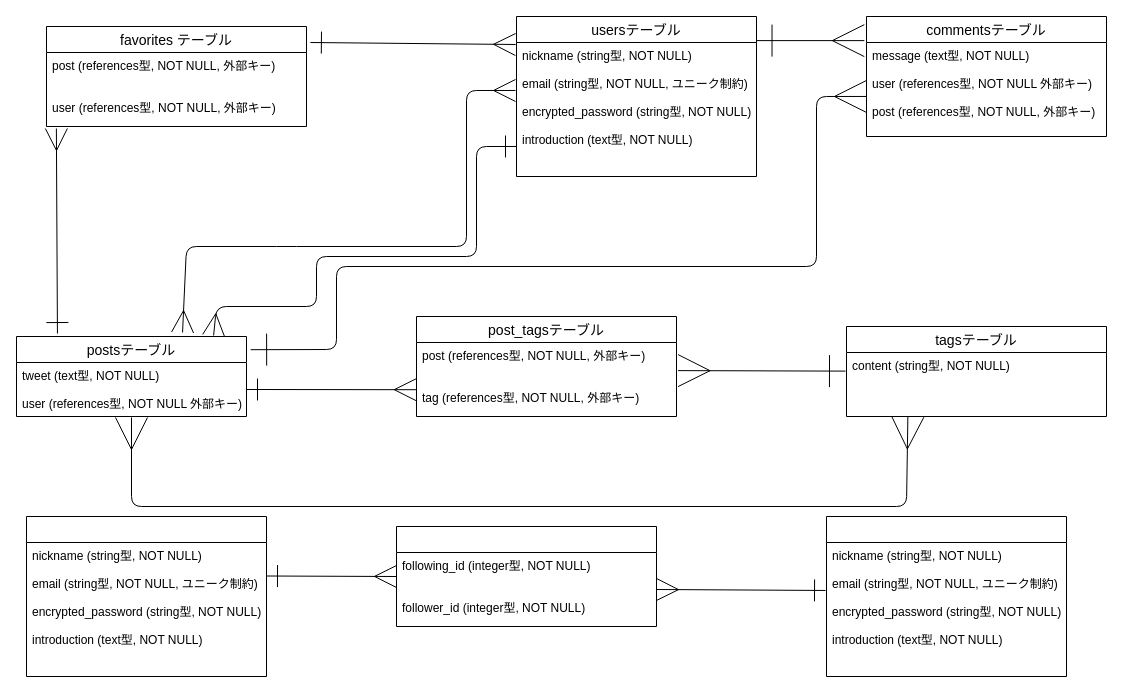
Image size: 1123x693. Some labels were removed from this diagram. Here are the shapes that lost their labels. From the top down, the box of each, then its label:
(26, 516, 266, 676): folllowingsテーブル
(396, 526, 656, 626): relationshipsテーブル
(826, 516, 1066, 676): followersテーブル
